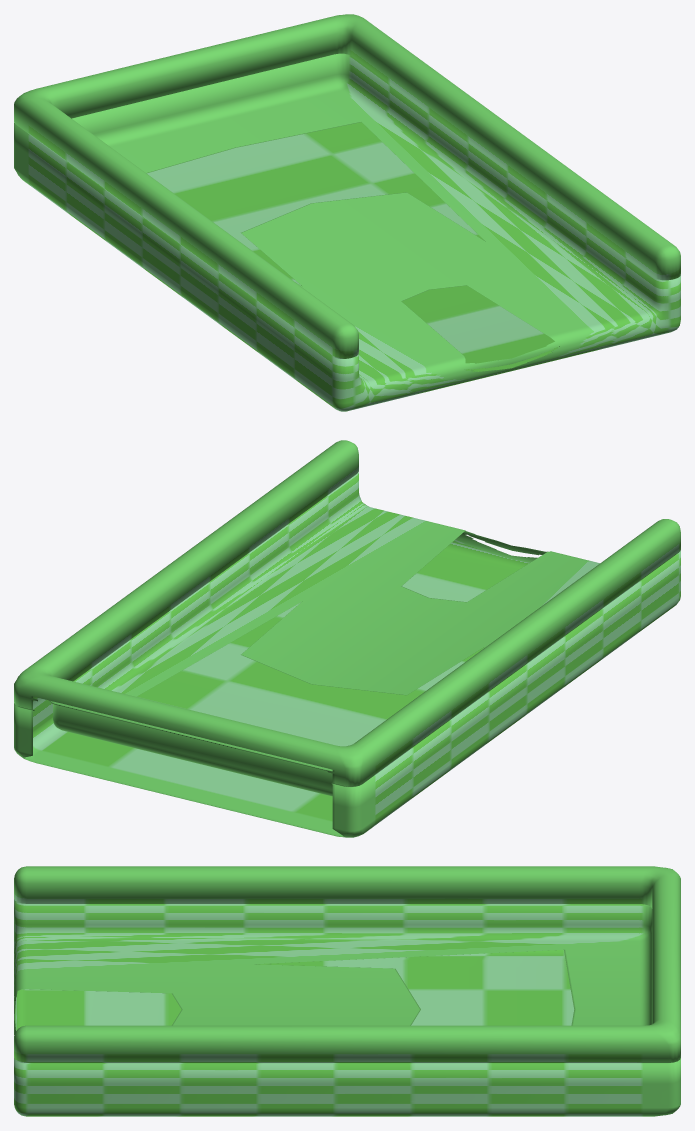
File: Map_Body.fbx
3 renders of one model, top to bottom at view 1: azimuth 30°, elevation 25°; view 2: azimuth 150°, elevation 25°; view 3: azimuth 270°, elevation 25°, orthographic.
Parts seen in each view (by area): view 1: Cube; view 2: Cube; view 3: Cube.
Part boxes in pixels (box(x1,y1,x2,y2)): Cube: box(14, 14, 680, 411); Cube: box(14, 440, 680, 837); Cube: box(14, 866, 680, 1116).
Bounding box in the file's own units: 1256 × 298 × 2067.
